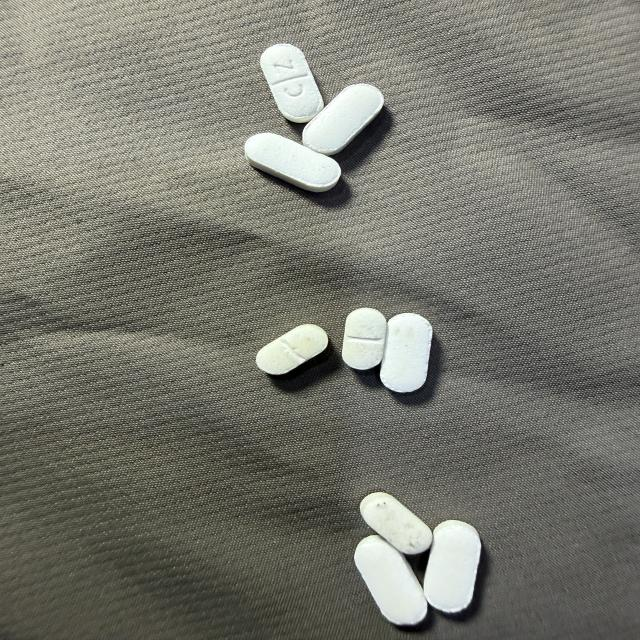pill: (355, 536, 427, 625), (303, 84, 383, 155), (245, 133, 340, 192), (424, 521, 481, 612), (261, 44, 323, 122), (360, 493, 432, 554), (381, 314, 432, 392), (256, 324, 328, 374), (342, 308, 386, 369)
